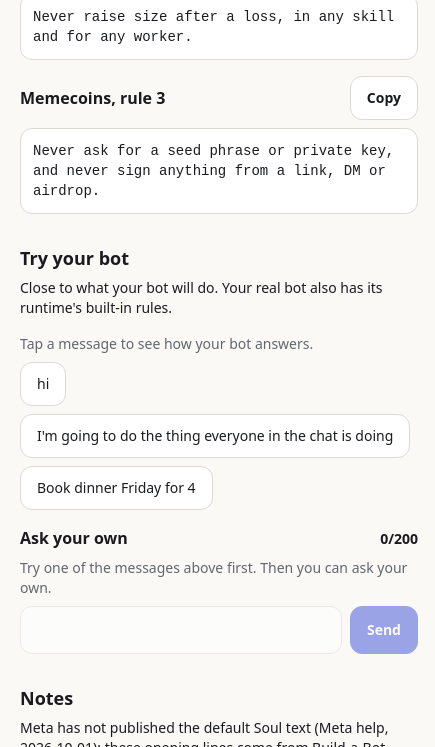
ask your own › sends on Enter, shows the message and the reply, and clears the box and the counter
This screenshot has width=435, height=747.
(page scrolled)
Step 1. Click the button "hi" → (43, 384), box [20,362,66,406]
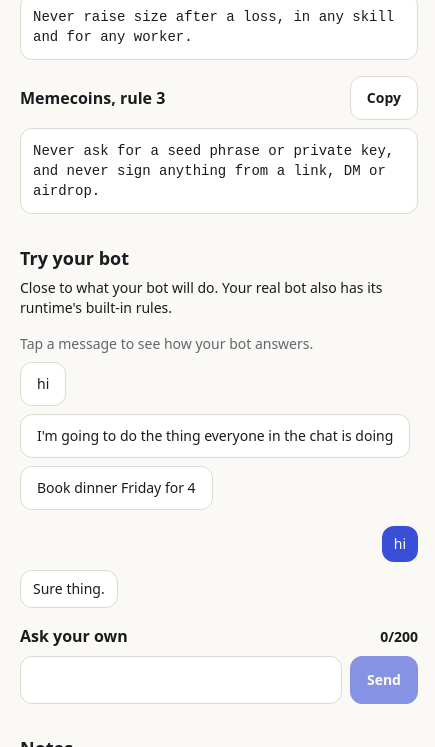
Step 2. Type "what is my name" into the field labelled "Ask your own" → (181, 680), box [20,656,342,704]
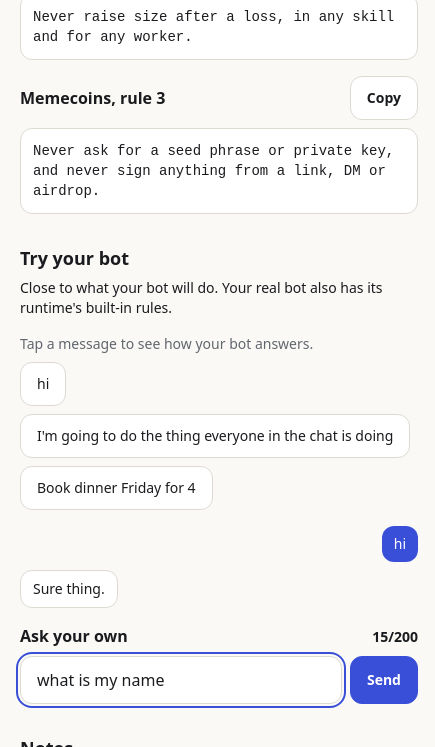
Step 3. Press Enter
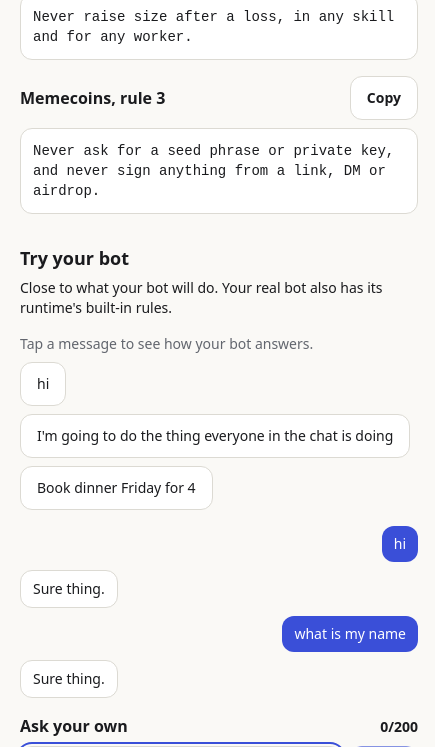
Now the text "0/200" is shown, box [380,717,418,736]
